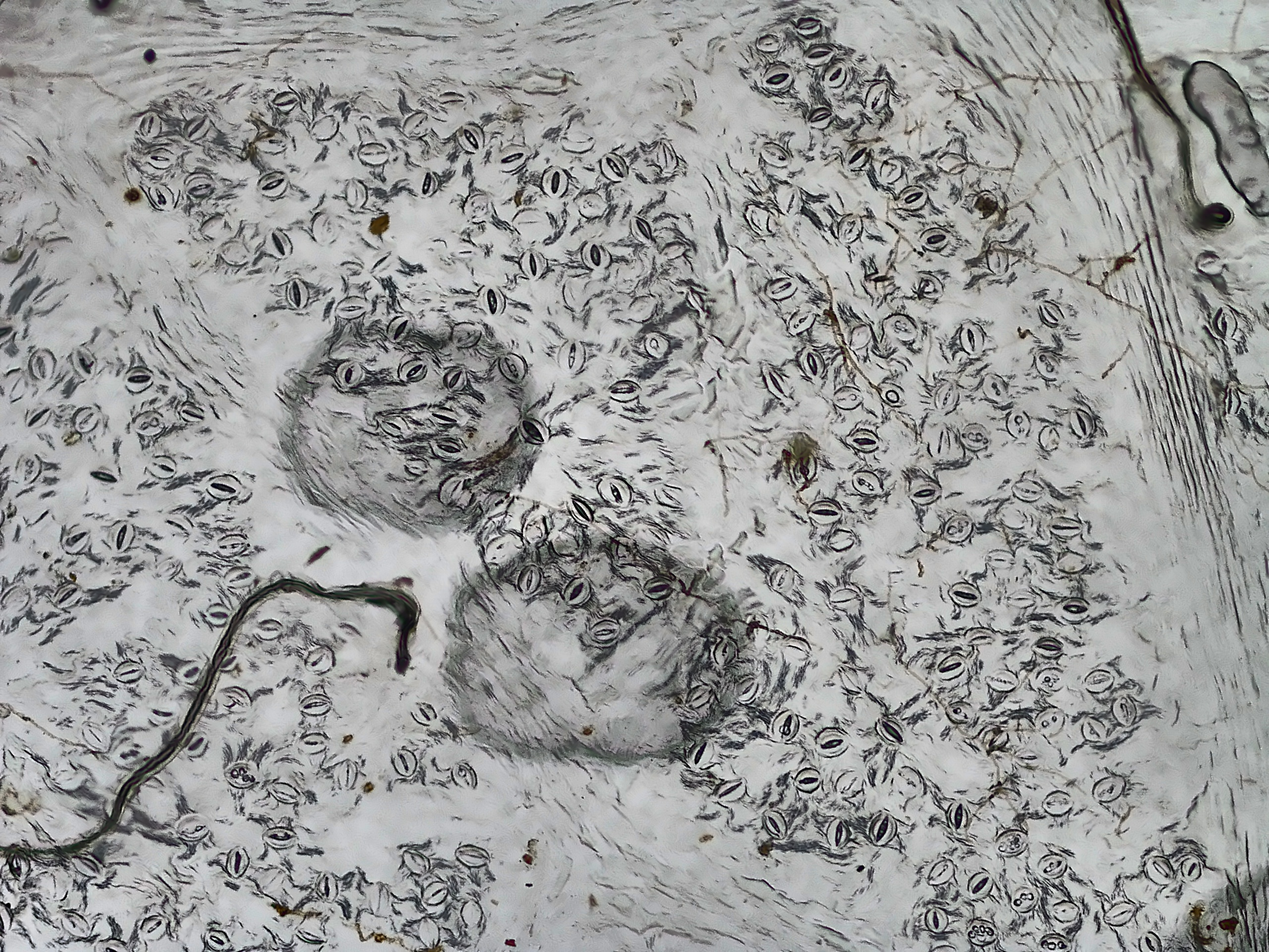stomata: (758, 363, 788, 403), (812, 726, 850, 755), (1207, 306, 1237, 341), (882, 314, 918, 343), (476, 285, 506, 318), (333, 358, 363, 391), (457, 122, 486, 155), (760, 61, 793, 90), (1092, 774, 1127, 800), (580, 241, 611, 270), (598, 475, 627, 506), (281, 278, 309, 310), (109, 521, 137, 553), (868, 811, 896, 843), (519, 249, 548, 279), (767, 563, 796, 593), (943, 514, 973, 543), (429, 435, 465, 459), (1068, 407, 1095, 439), (928, 423, 952, 459), (984, 240, 1008, 276), (207, 473, 240, 499), (945, 799, 971, 832), (520, 416, 548, 446), (844, 426, 879, 450), (29, 348, 55, 380), (138, 914, 170, 940), (983, 370, 1009, 402), (961, 320, 984, 356), (984, 668, 1018, 692), (994, 831, 1028, 855), (498, 353, 526, 382), (961, 423, 990, 451), (1145, 854, 1175, 881), (796, 349, 826, 376), (772, 711, 798, 742), (759, 141, 790, 167), (1048, 517, 1083, 540), (175, 661, 207, 686), (874, 718, 906, 743), (949, 580, 981, 605), (909, 480, 941, 505), (839, 213, 864, 245), (439, 475, 463, 508), (217, 688, 250, 712), (1058, 595, 1091, 619), (452, 321, 480, 349), (983, 725, 1011, 753), (1007, 407, 1035, 435), (541, 166, 567, 196), (14, 451, 40, 481), (164, 512, 194, 538), (825, 817, 850, 848), (1035, 350, 1060, 381), (934, 380, 959, 411), (559, 341, 583, 373), (497, 148, 530, 171), (127, 365, 155, 392), (62, 525, 89, 553), (52, 582, 80, 609), (877, 381, 905, 408), (1042, 790, 1071, 816), (780, 187, 806, 216), (304, 647, 334, 672), (1104, 900, 1134, 925), (455, 843, 489, 865), (1037, 853, 1071, 875), (377, 414, 408, 438), (1033, 706, 1064, 730), (1010, 478, 1047, 498), (401, 848, 429, 874), (644, 332, 672, 358), (881, 161, 909, 187), (416, 918, 438, 951), (70, 345, 95, 374), (793, 766, 822, 791), (358, 141, 388, 165), (602, 152, 626, 182), (177, 815, 208, 838), (228, 844, 250, 876), (828, 588, 860, 610), (260, 170, 287, 196), (563, 578, 590, 604), (83, 724, 108, 752), (854, 473, 882, 498), (567, 495, 591, 524), (588, 618, 617, 642), (762, 810, 786, 839), (923, 905, 947, 934), (1039, 299, 1063, 328), (765, 277, 798, 298), (1034, 634, 1064, 657), (609, 380, 640, 402), (24, 403, 50, 429), (386, 315, 412, 341), (149, 182, 174, 209), (266, 229, 291, 256), (402, 111, 427, 138), (390, 749, 417, 774), (655, 484, 683, 508), (224, 566, 256, 587), (298, 693, 330, 714), (922, 227, 950, 251), (518, 564, 541, 593), (86, 465, 115, 488), (252, 620, 283, 641), (263, 825, 294, 846), (780, 635, 811, 656), (136, 113, 162, 138), (1178, 856, 1203, 882), (938, 656, 965, 680), (846, 142, 869, 170), (336, 297, 368, 317), (808, 503, 840, 523), (185, 173, 214, 195), (714, 637, 736, 666), (733, 673, 755, 702), (715, 778, 744, 800), (297, 732, 327, 753), (687, 740, 711, 766), (1114, 698, 1137, 725), (1010, 887, 1041, 907), (399, 358, 427, 380), (627, 296, 655, 318), (802, 44, 831, 65), (204, 927, 228, 952), (836, 666, 860, 691), (866, 82, 886, 112), (897, 186, 923, 209), (214, 536, 247, 554), (337, 758, 356, 789), (115, 660, 143, 681), (1080, 716, 1104, 740), (72, 405, 95, 430), (178, 400, 203, 423), (970, 870, 992, 896), (71, 855, 101, 874), (268, 783, 298, 802), (1083, 672, 1113, 691), (184, 117, 211, 138), (418, 169, 439, 196), (433, 405, 460, 426), (644, 577, 671, 598), (347, 176, 365, 207), (687, 685, 710, 709), (184, 732, 208, 755), (205, 602, 230, 624), (788, 310, 813, 332), (146, 456, 174, 475), (631, 218, 653, 242), (930, 860, 952, 884), (834, 773, 858, 795), (156, 558, 181, 579), (828, 530, 853, 551), (831, 387, 857, 407), (989, 548, 1015, 568), (423, 882, 446, 904), (756, 33, 781, 53), (147, 706, 174, 724), (272, 91, 295, 112), (645, 527, 668, 548), (317, 872, 337, 896), (412, 702, 434, 723), (454, 763, 476, 784), (1039, 426, 1059, 449), (147, 149, 171, 168), (445, 368, 463, 393), (808, 107, 831, 126), (1053, 902, 1077, 920), (794, 18, 821, 34), (827, 66, 848, 85), (437, 93, 465, 106), (1007, 592, 1034, 605), (219, 654, 237, 671), (687, 288, 699, 305)
